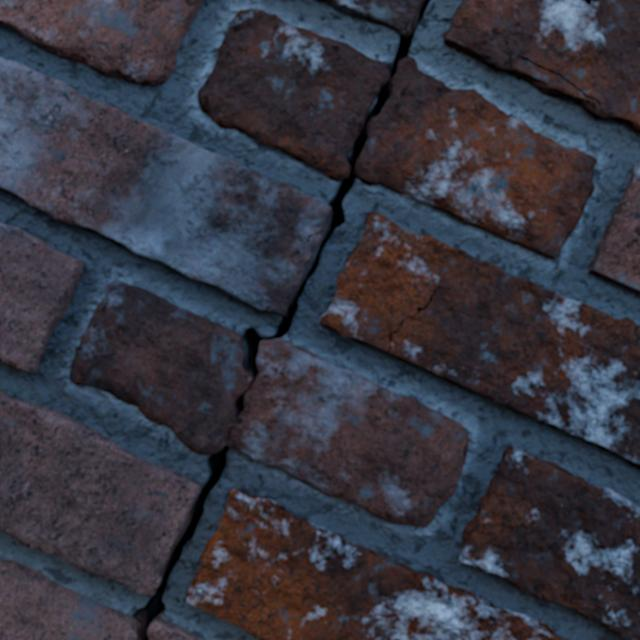broken_brick: (70, 279, 468, 527), (354, 57, 596, 259), (198, 9, 388, 181), (0, 560, 138, 639), (148, 617, 201, 639)
crack: (0, 0, 431, 385), (320, 213, 639, 469), (186, 488, 566, 639), (0, 390, 230, 639), (459, 445, 639, 639), (443, 0, 639, 132), (0, 0, 202, 85), (0, 223, 83, 371), (589, 162, 639, 293), (493, 230, 554, 257), (381, 180, 441, 207), (527, 241, 556, 254), (234, 392, 244, 418), (387, 179, 401, 185)
